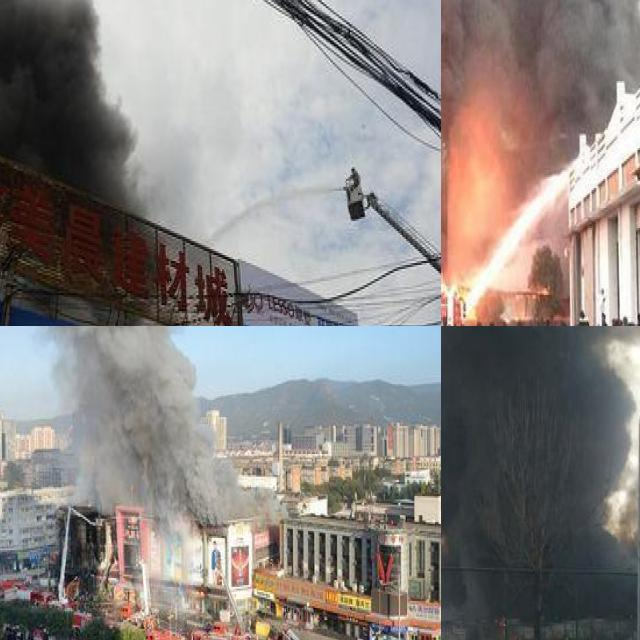smoke: (441, 326, 640, 612), (0, 326, 267, 526), (0, 0, 148, 319), (441, 0, 640, 115)
